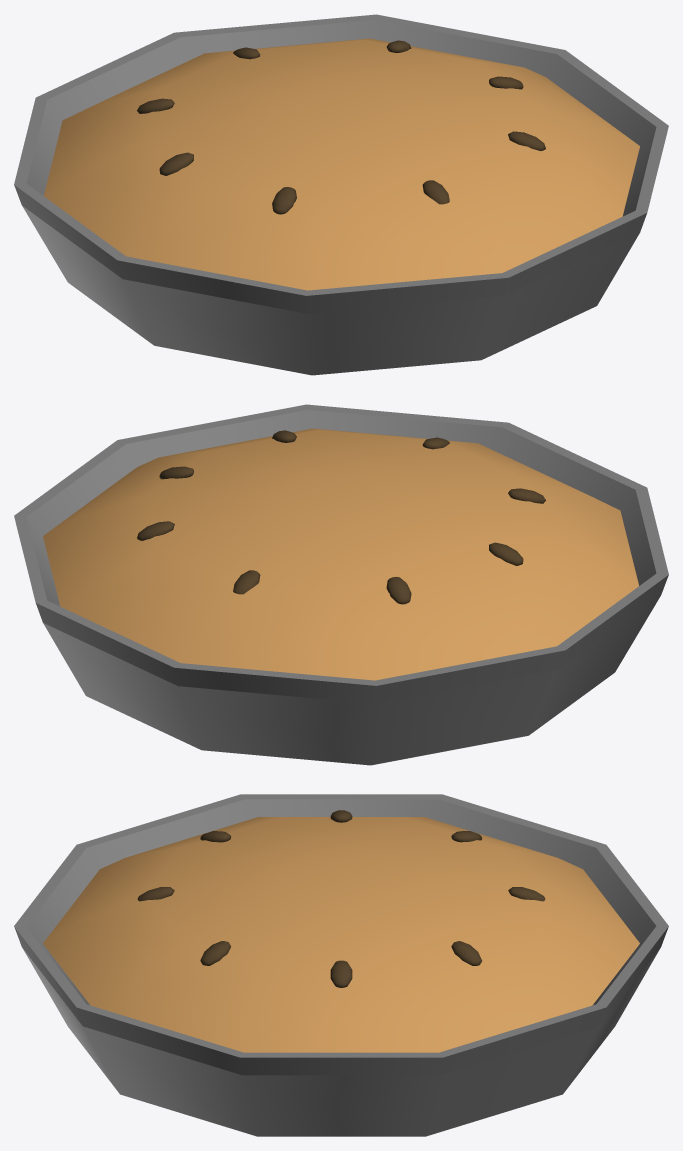
File: pie.fbx
The picture shows the model from 3 angles, top to bottom: view 1: azimuth 30°, elevation 25°; view 2: azimuth 150°, elevation 25°; view 3: azimuth 270°, elevation 25°; orthographic projection. The views are drawn at different scales.
Parts seen in each view (by area): view 1: Pie; view 2: Pie; view 3: Pie.
Boxes of the visible parts, x1,y1,x2,y2 form: Pie: (14, 14, 668, 375); Pie: (14, 404, 668, 765); Pie: (14, 794, 668, 1136).
Size of the model in its own units: 0.3512 by 0.0908 by 0.3693.
